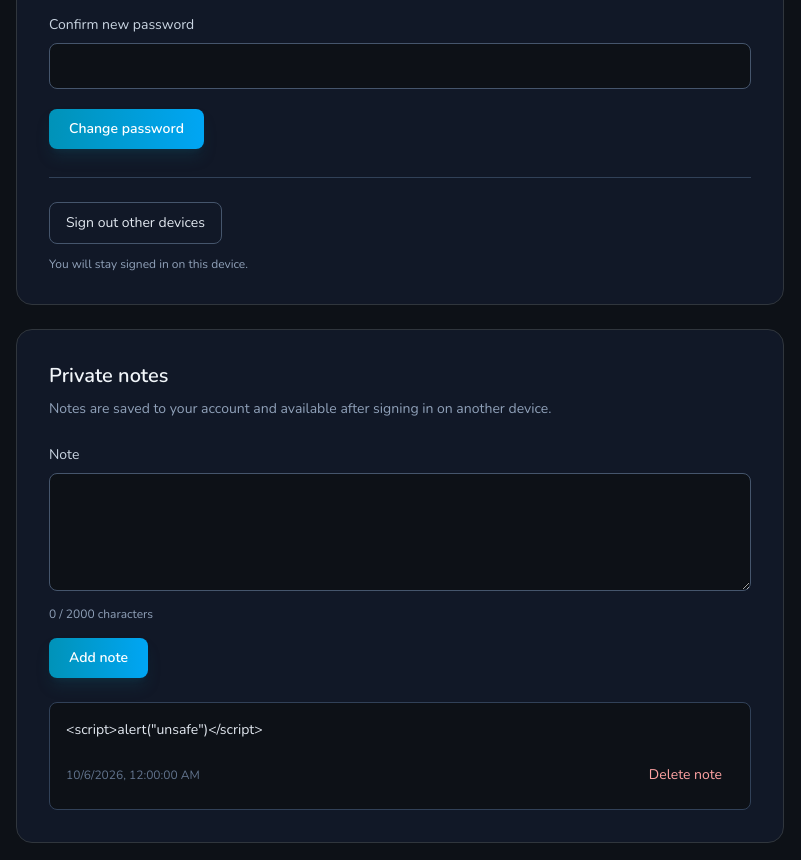
Test: signed-in account tools › renders note text safely and only removes a note after successful deletion
(page scrolled)
expect the text "<script>alert(\"unsafe\")</script>" is shown: met, box [66, 720, 263, 738]
Click the button "Delete note".
click(685, 775)  # box [637, 757, 734, 793]
(page scrolled)
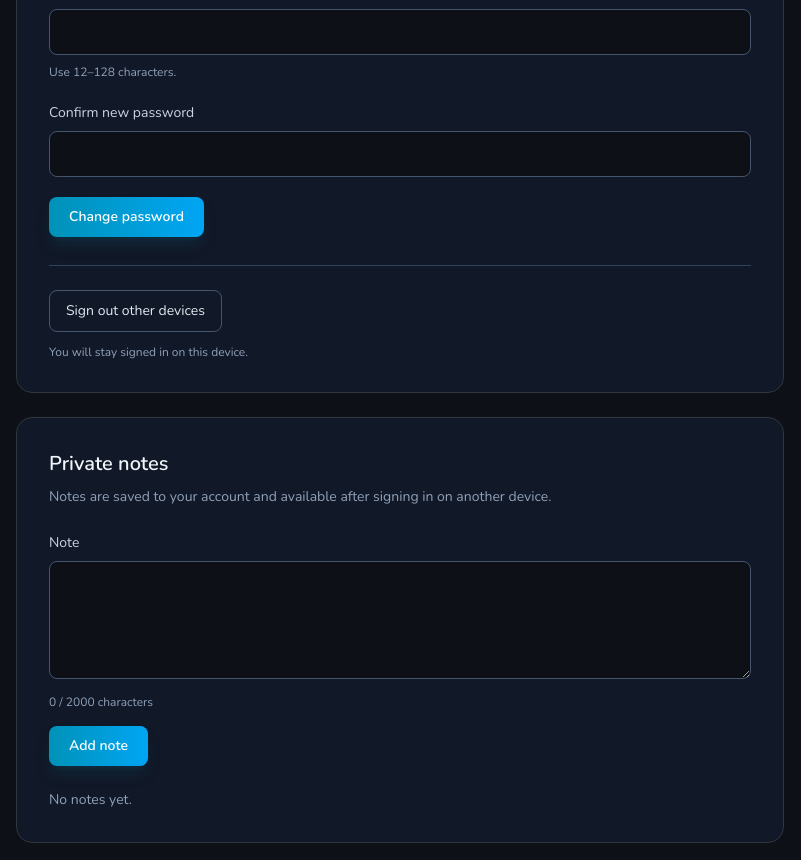
expect the text "No notes yet." is shown: met, box [49, 790, 132, 808]
